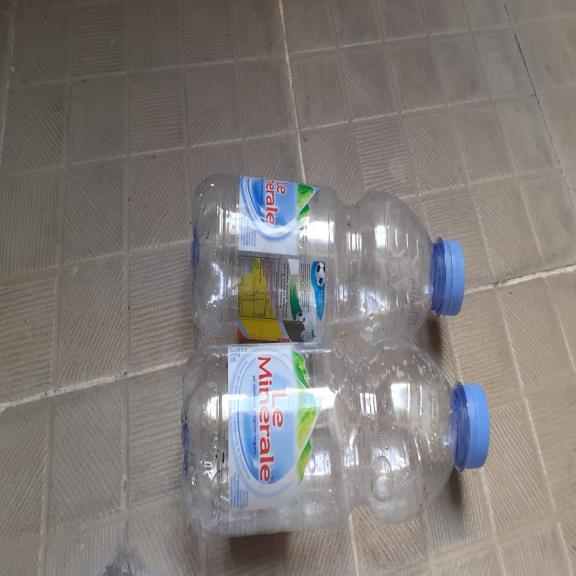Plastik: (179, 345, 488, 540), (188, 170, 466, 345)
